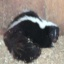skunk: (4, 11, 60, 50)
